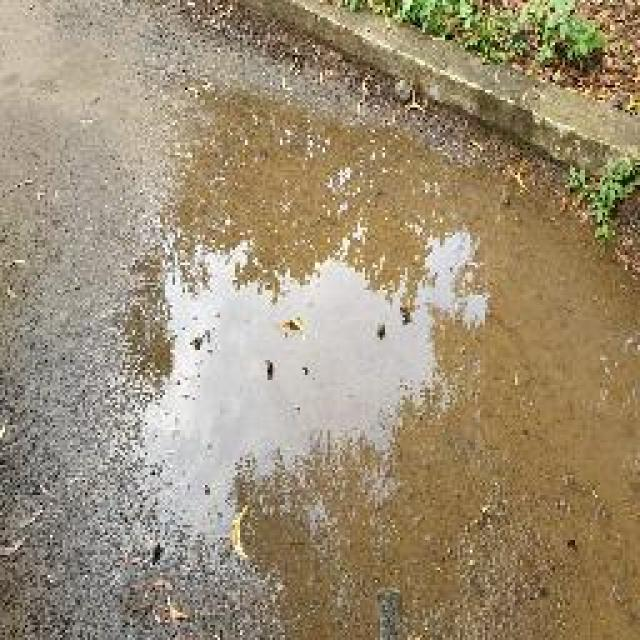puddle: (116, 95, 640, 640)
